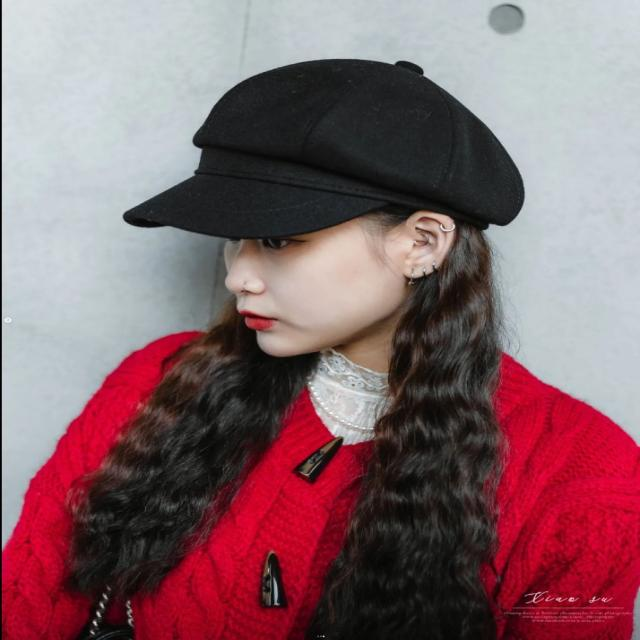illegal_helmet: (108, 51, 532, 364)
